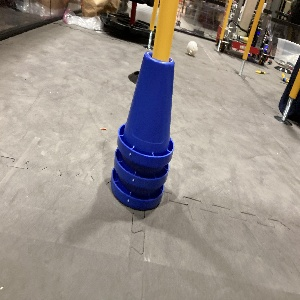Blue_3: (110, 49, 173, 210)
